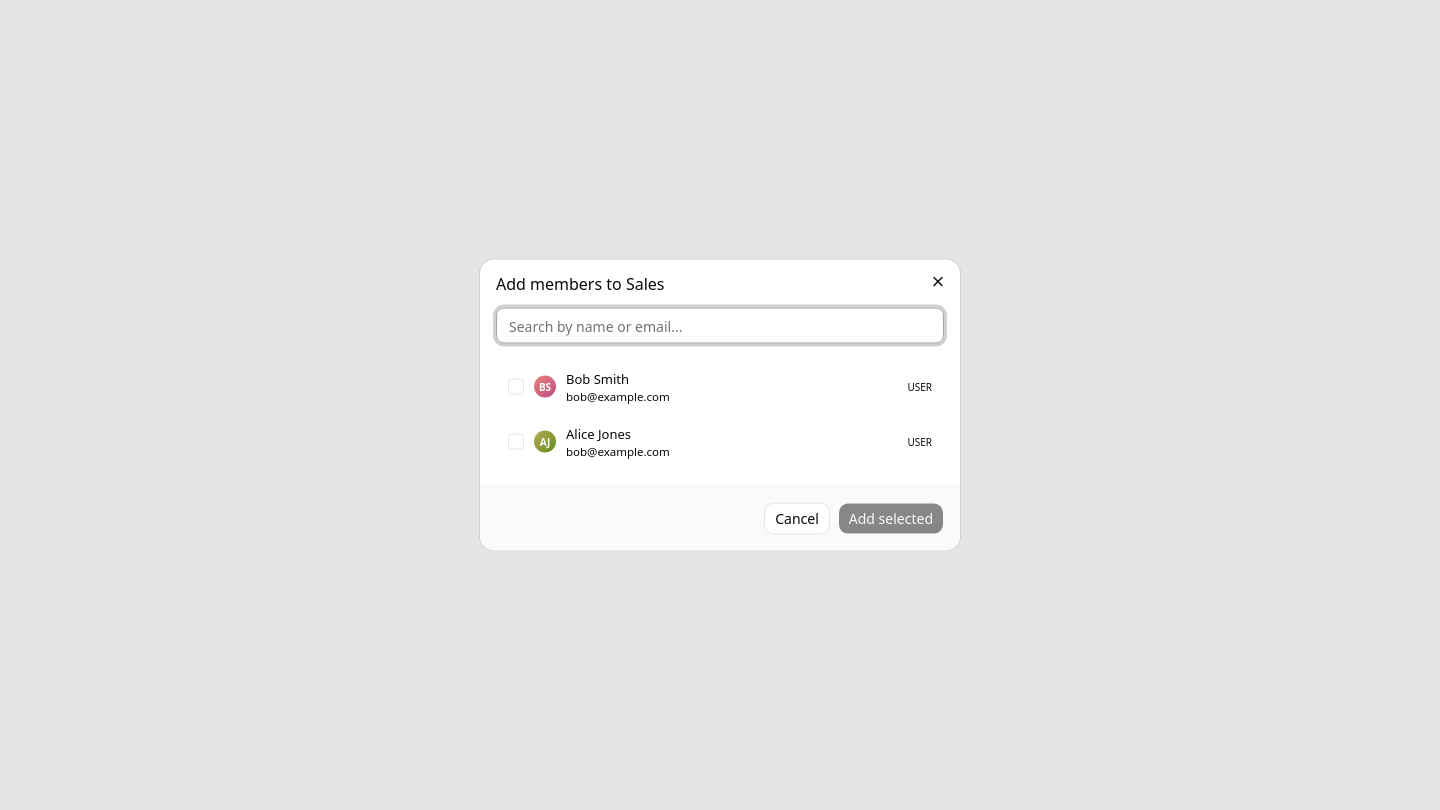
Scenario: AddMemberModal › filters members by the search query
Type "alice" into the field with placeholder "Search by name or email..." at [720, 326], box [496, 308, 944, 344]
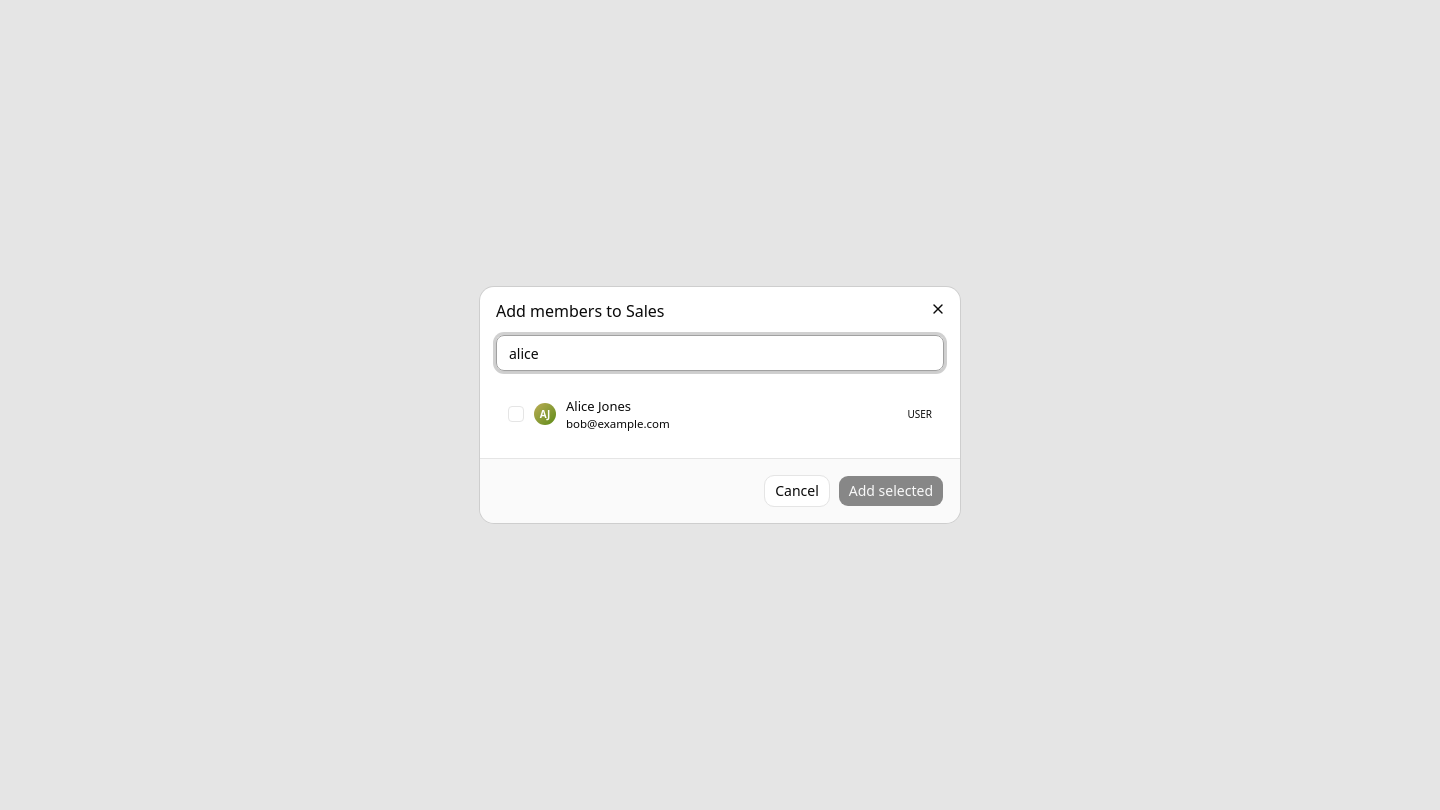
Expected: the text "Alice Jones" is shown, [566, 397, 631, 415]
Expected: the text "Bob Smith" is gone
